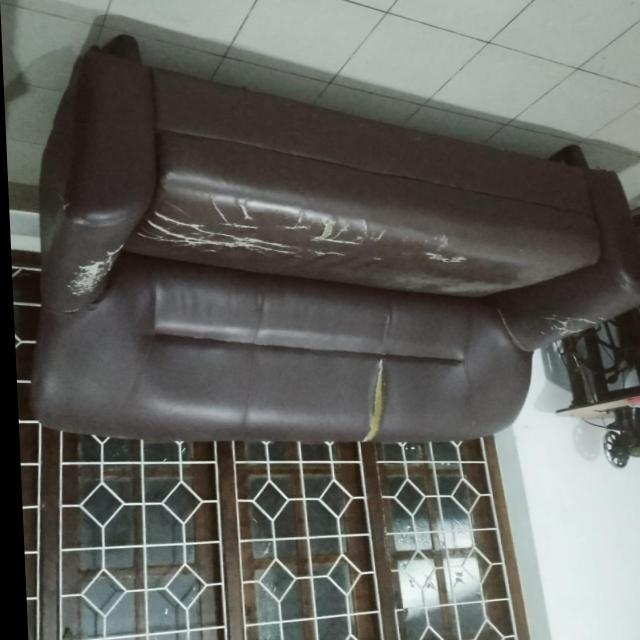Sofa: (10, 32, 640, 443)
